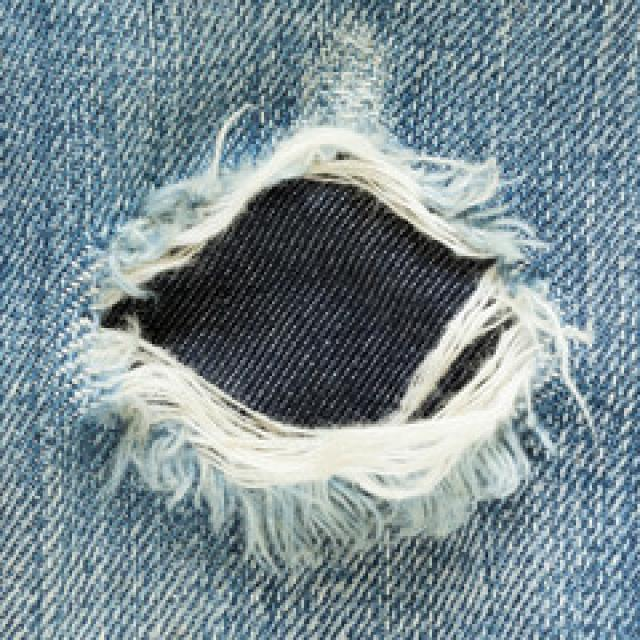Hole: (89, 127, 560, 569)
